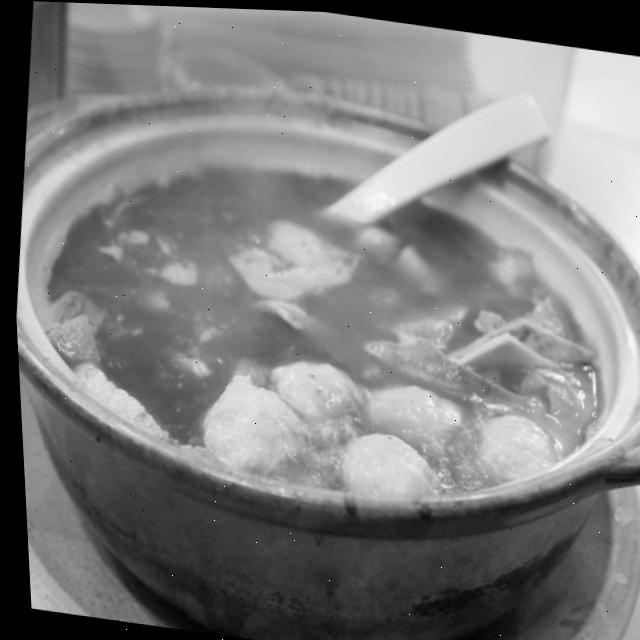汤锅炖物: (1, 23, 640, 604)
